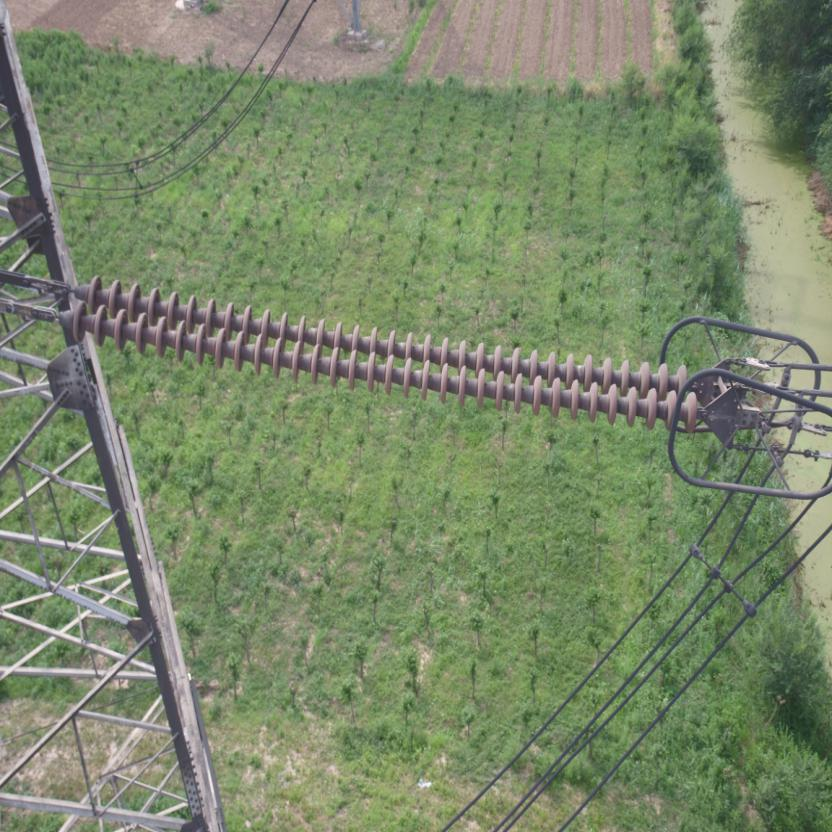insulator: (42, 265, 717, 441)
